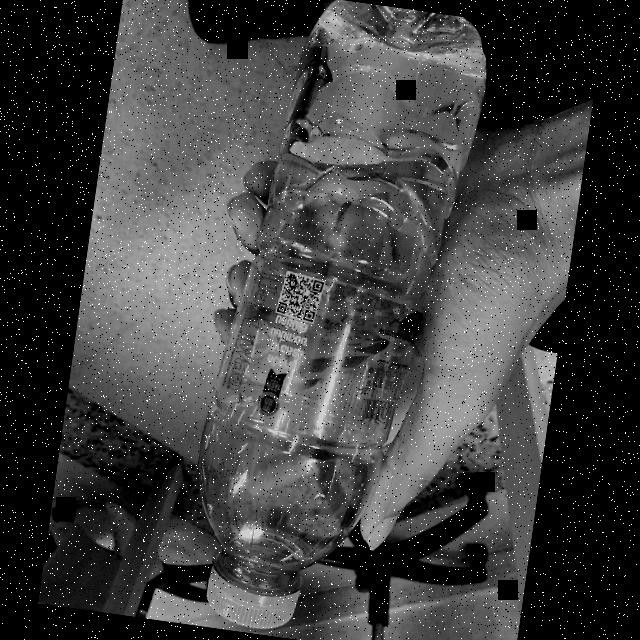plastic_bottle: (200, 12, 497, 640)
plastic_bottle_cap: (199, 558, 303, 634)
